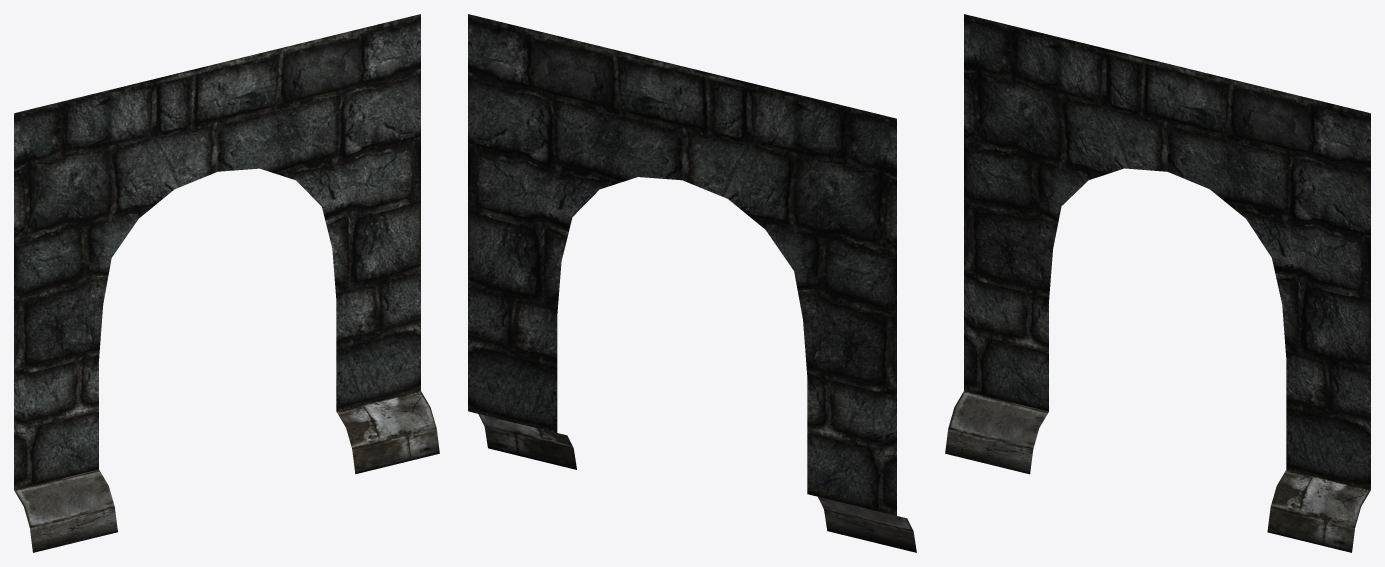
The model's file is door_way_arched_square_brick.dae.
The picture shows the model from 3 angles, left to right: view 1: azimuth 30°, elevation 25°; view 2: azimuth 150°, elevation 25°; view 3: azimuth 330°, elevation 25°; orthographic projection. The views are drawn at different scales.
Visible parts, largest first — view 1: polySurface117, polySurface120; view 2: polySurface117, polySurface120; view 3: polySurface117, polySurface120.
Boxes of the visible parts, x1,y1,x2,y2 form: polySurface117: (14,14,420,489); polySurface120: (14,391,439,552); polySurface117: (468,14,896,515); polySurface120: (478,414,916,552); polySurface117: (964,14,1370,489); polySurface120: (945,391,1370,552).
Size of the model in its own units: 4 by 4 by 0.3219.
